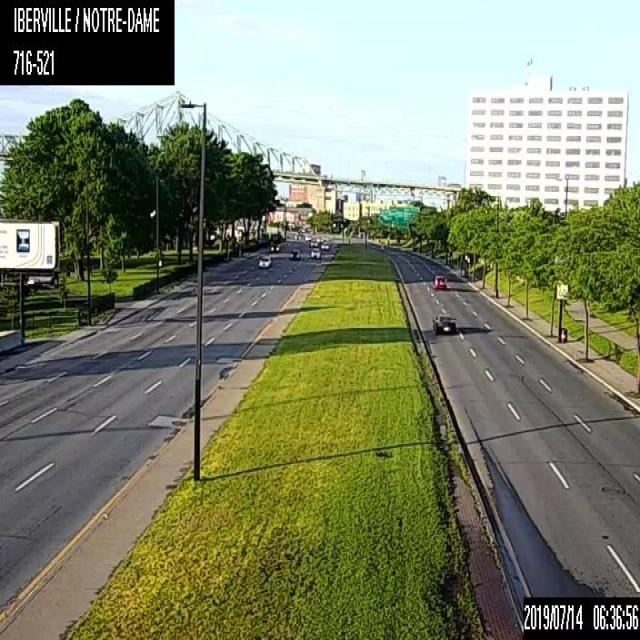vehicle: (431, 312, 455, 333), (257, 253, 273, 268), (434, 273, 446, 288), (268, 241, 283, 252), (290, 247, 300, 260), (311, 247, 320, 258), (320, 241, 329, 249), (310, 238, 317, 246), (317, 235, 322, 242)
